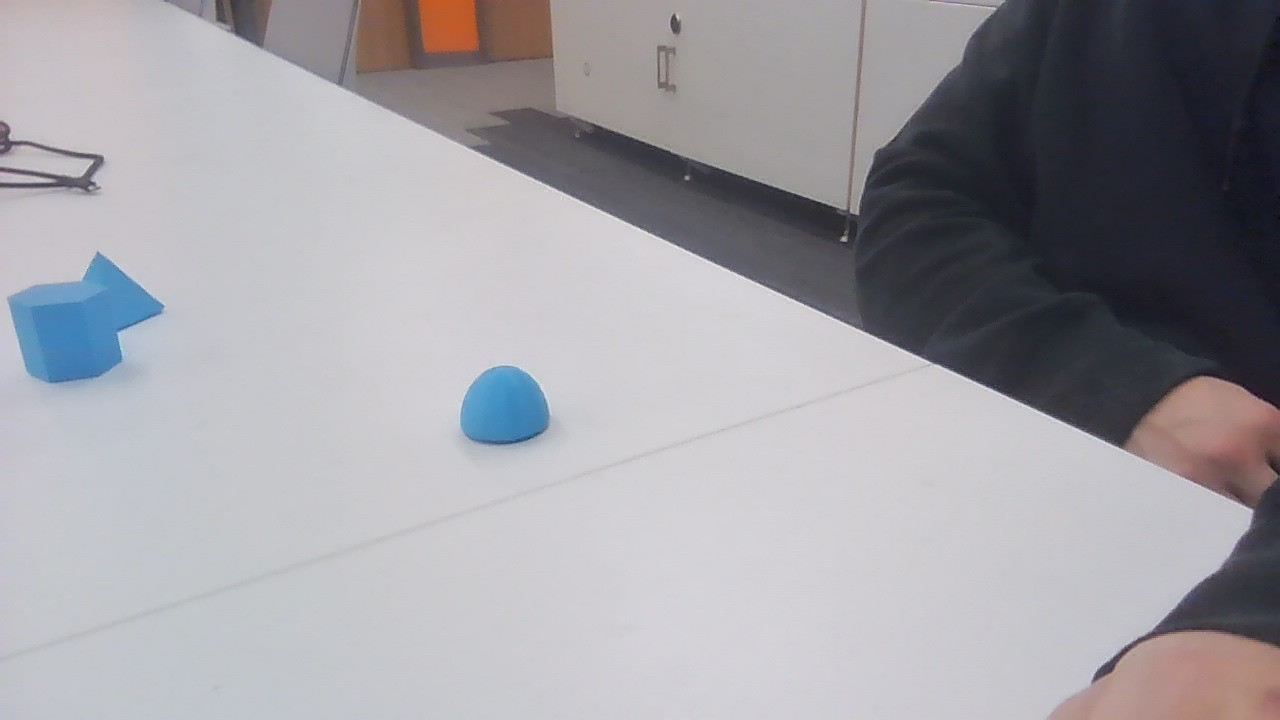halfsphere: (462, 365, 549, 443)
